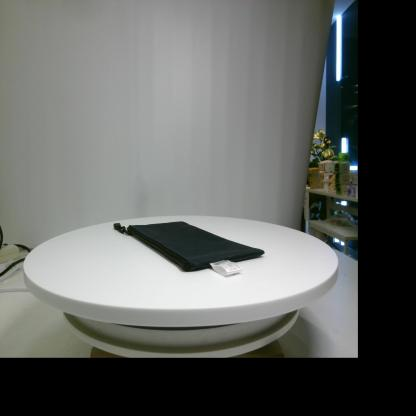Stationery: (113, 221, 265, 276)
